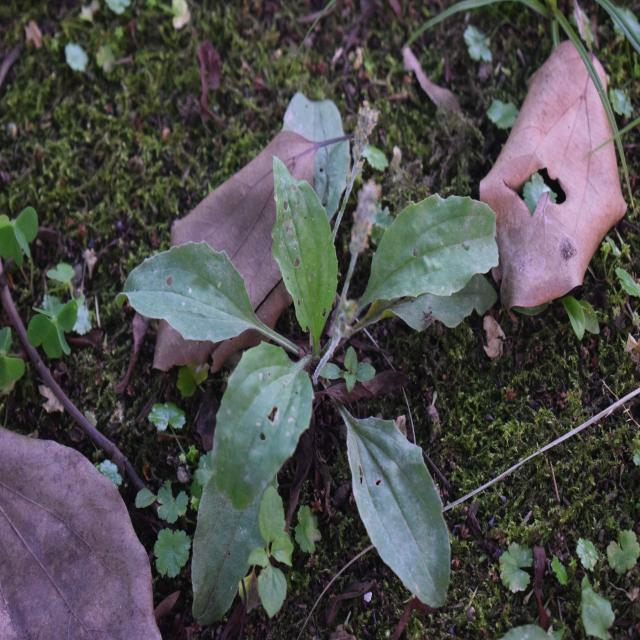plantain: (156, 144, 464, 572)
